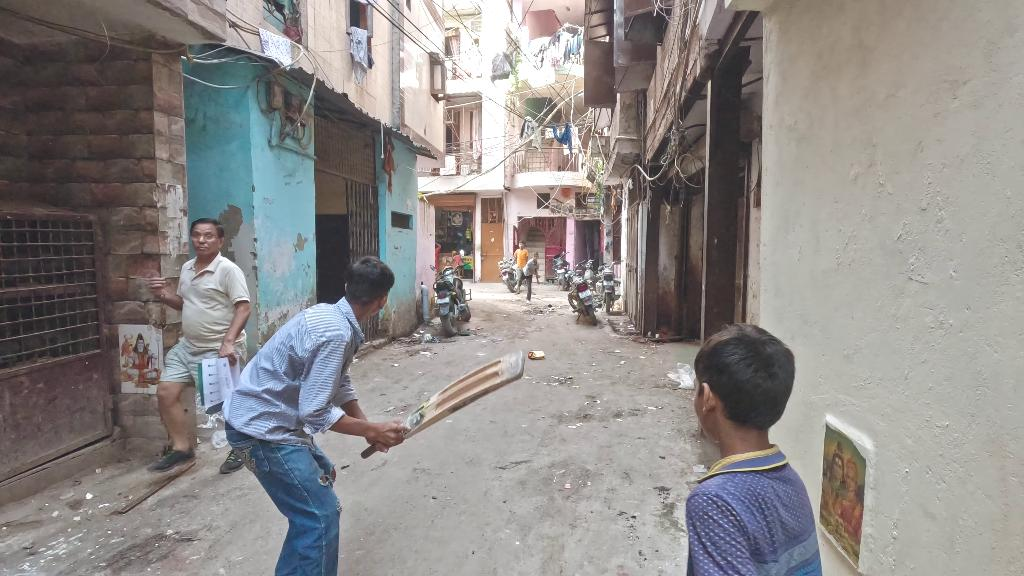garbage: (665, 363, 699, 393), (521, 340, 551, 367), (412, 325, 433, 345)
